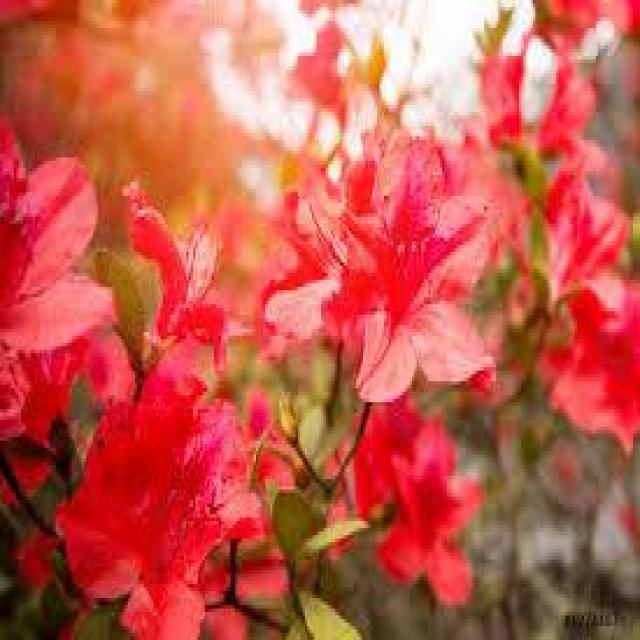organic waste: (43, 369, 262, 621), (306, 115, 499, 388), (0, 134, 128, 436), (114, 185, 240, 357)
